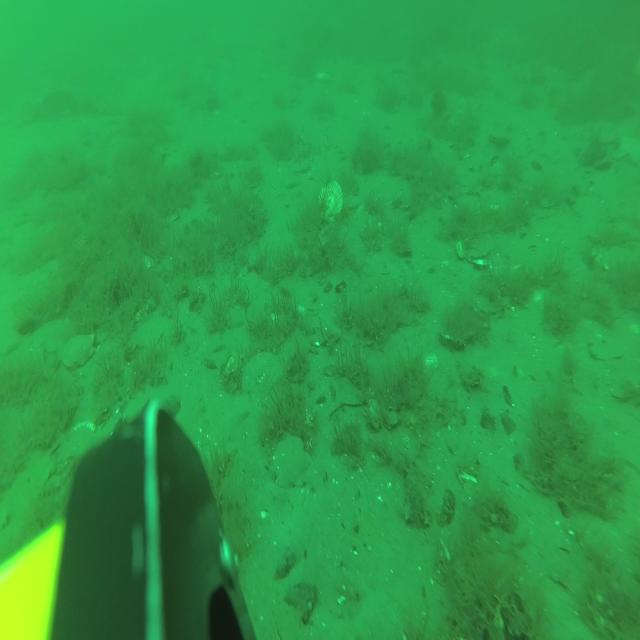scallop: (270, 435, 310, 487), (457, 236, 491, 269), (62, 334, 94, 366), (318, 182, 342, 223)
